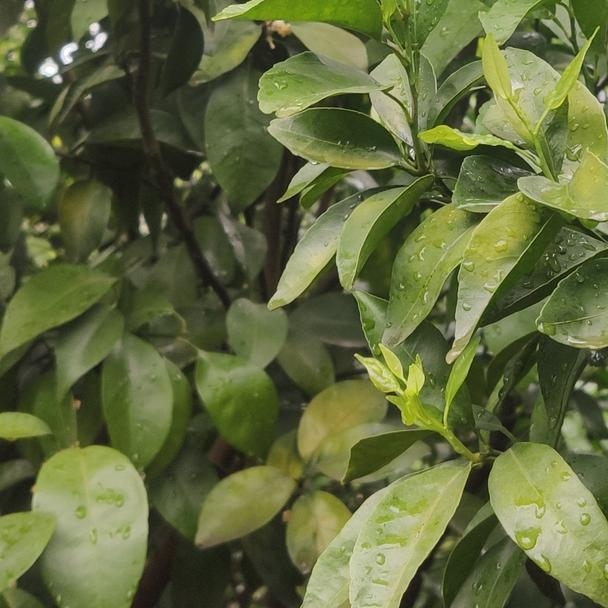shoot: (428, 39, 591, 187), (351, 356, 474, 462)
